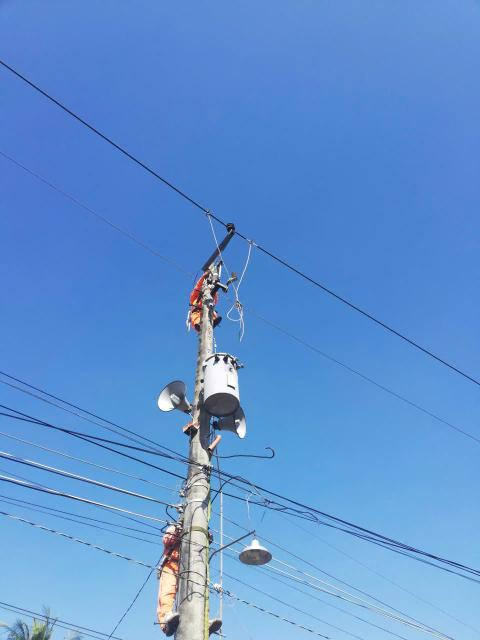gloves: (202, 269, 213, 277)
shoes: (208, 317, 223, 330), (193, 322, 202, 333)
